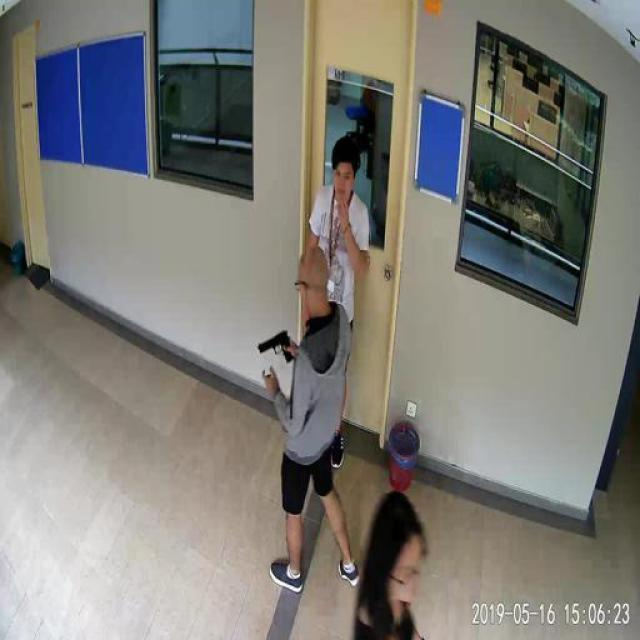weapon: (254, 331, 304, 369)
